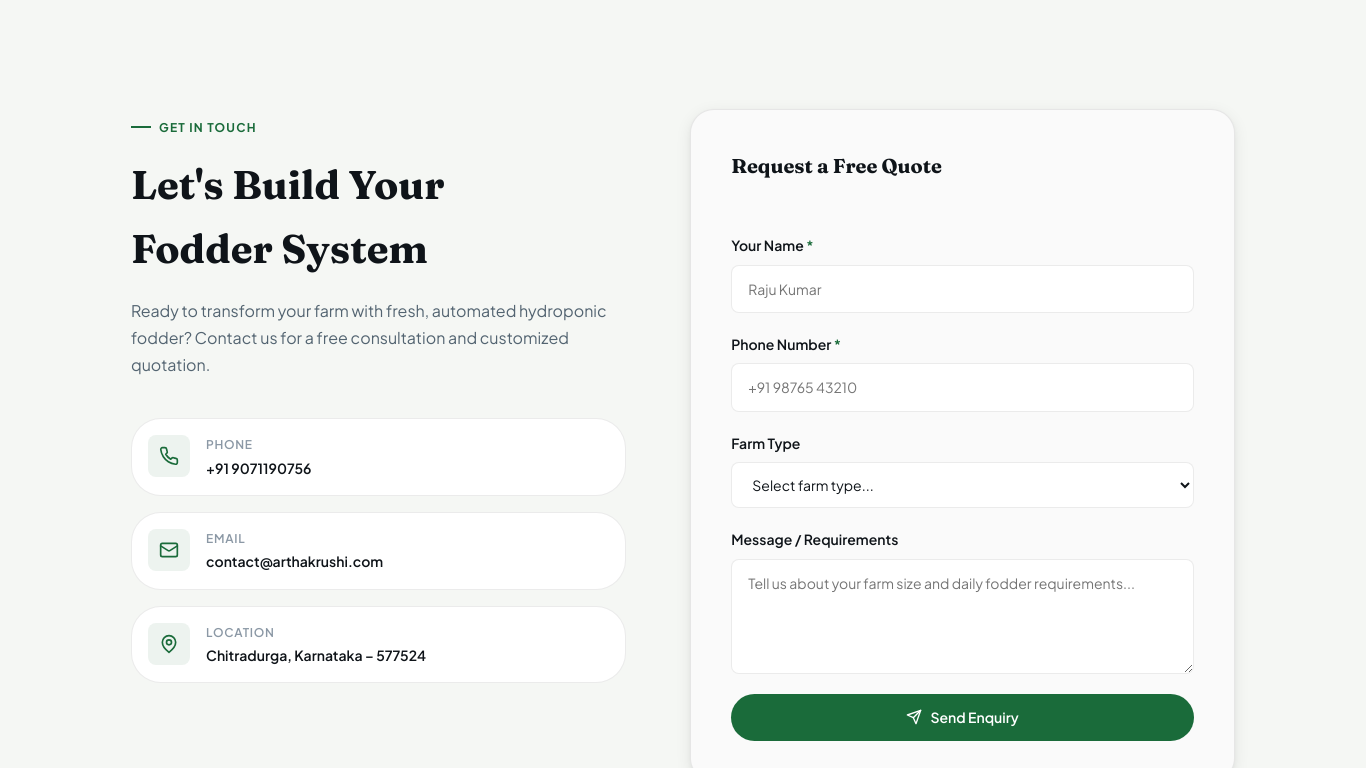
Test case: form submit opens WhatsApp and shows success
Type "Test Farmer" into the field labelled "Your Name *".
click(963, 289); type("Test Farmer")  # box x1=731 y1=265 x2=1194 y2=313
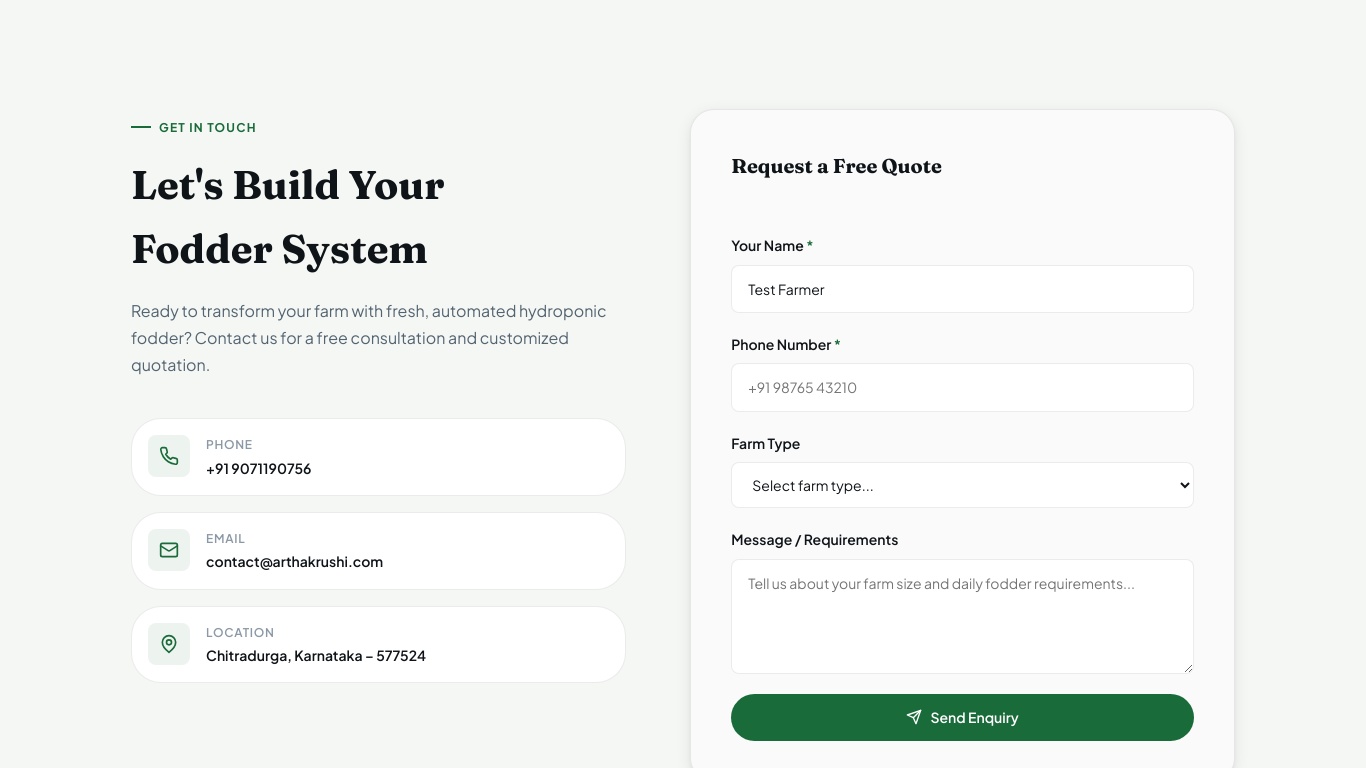
Type "9876543210" into the field labelled "Phone Number *".
click(963, 388); type("9876543210")  # box x1=731 y1=363 x2=1194 y2=412
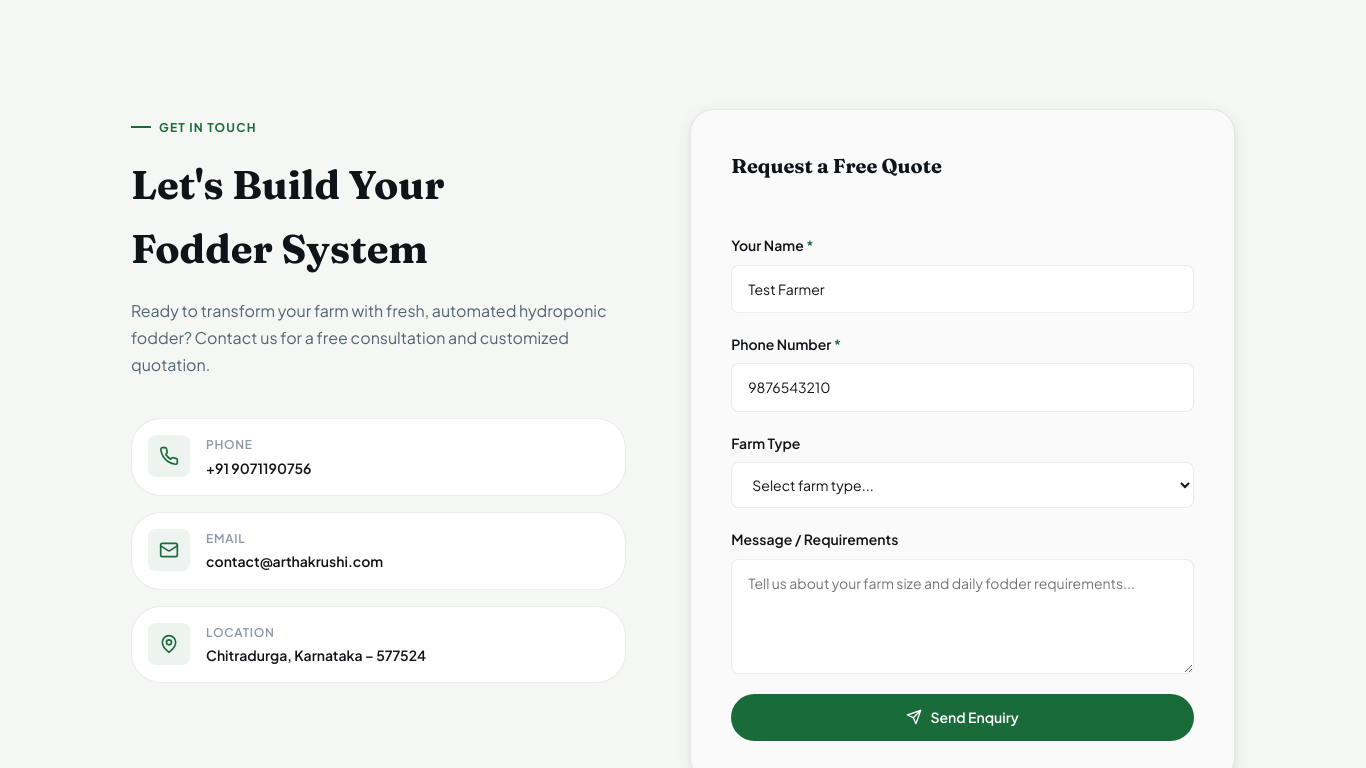
Click the button "Send Enquiry".
click(963, 717)  # box x1=731 y1=694 x2=1194 y2=741
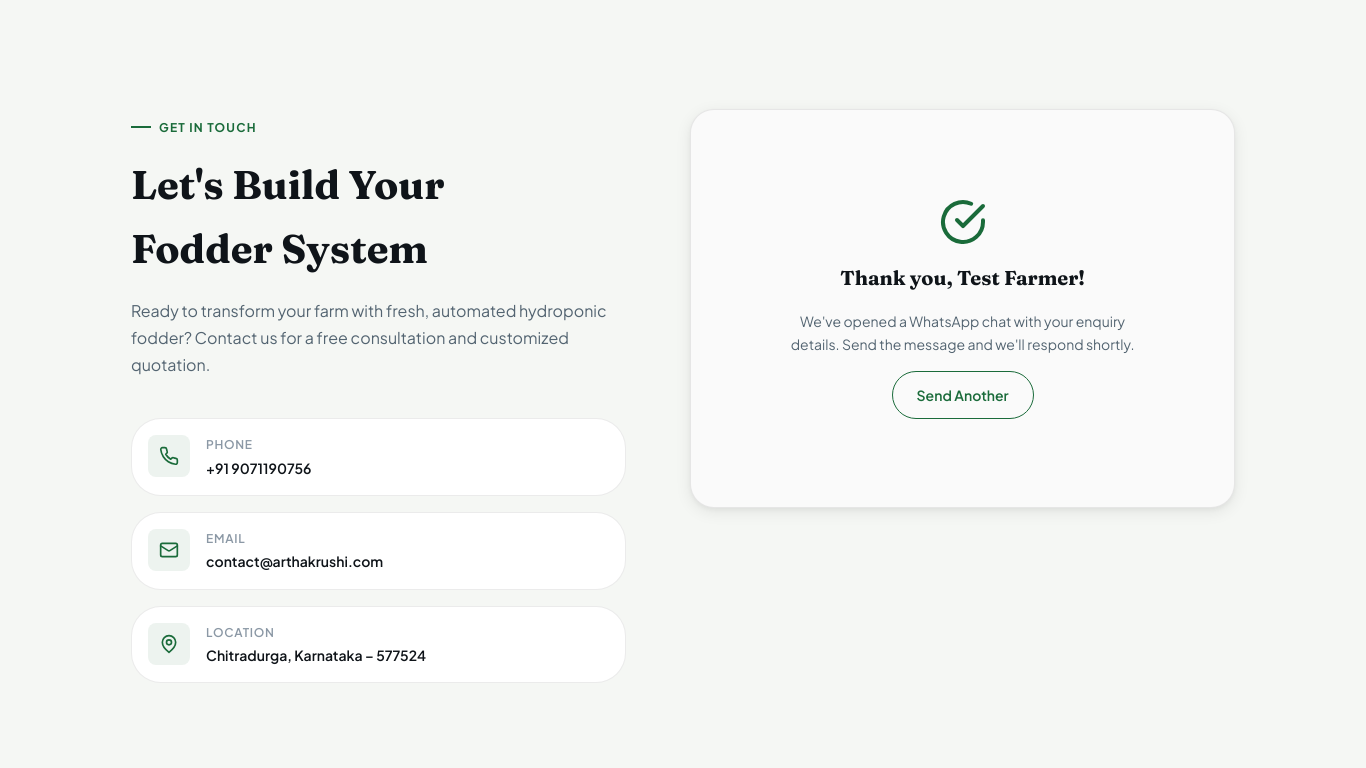
Expected: the heading "Thank you, Test Farmer!" is shown, x1=840 y1=262 x2=1085 y2=294
